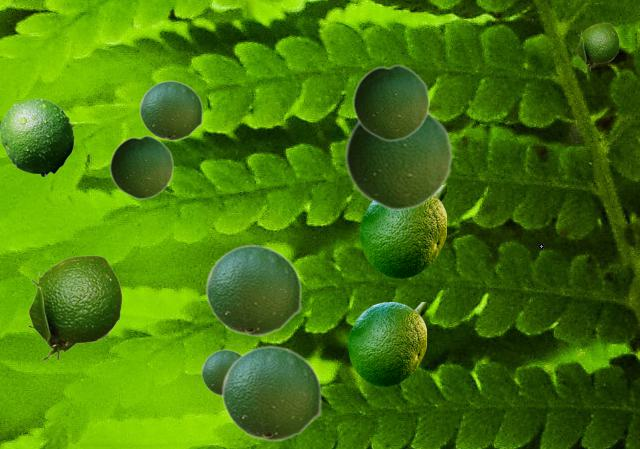dalandan: (344, 112, 452, 211), (27, 255, 121, 360), (221, 345, 321, 441), (205, 244, 301, 336), (360, 185, 445, 277), (348, 302, 425, 385), (352, 63, 429, 141), (0, 98, 76, 176), (109, 134, 173, 199), (139, 80, 202, 140), (576, 23, 618, 70), (201, 349, 240, 396)
